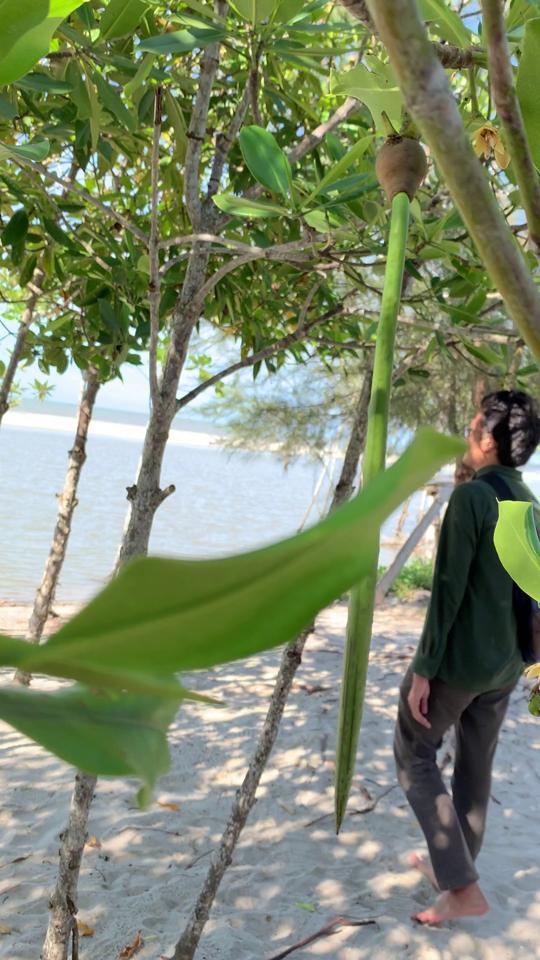setengah matang: (319, 111, 430, 840)
